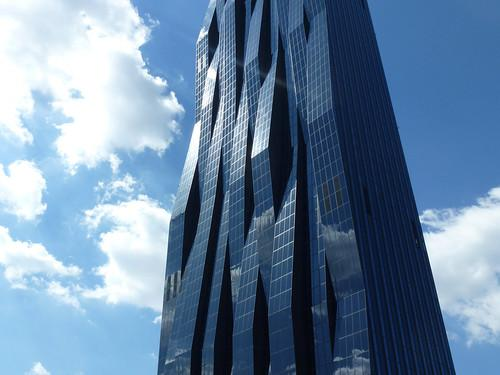building: (152, 1, 462, 375)
